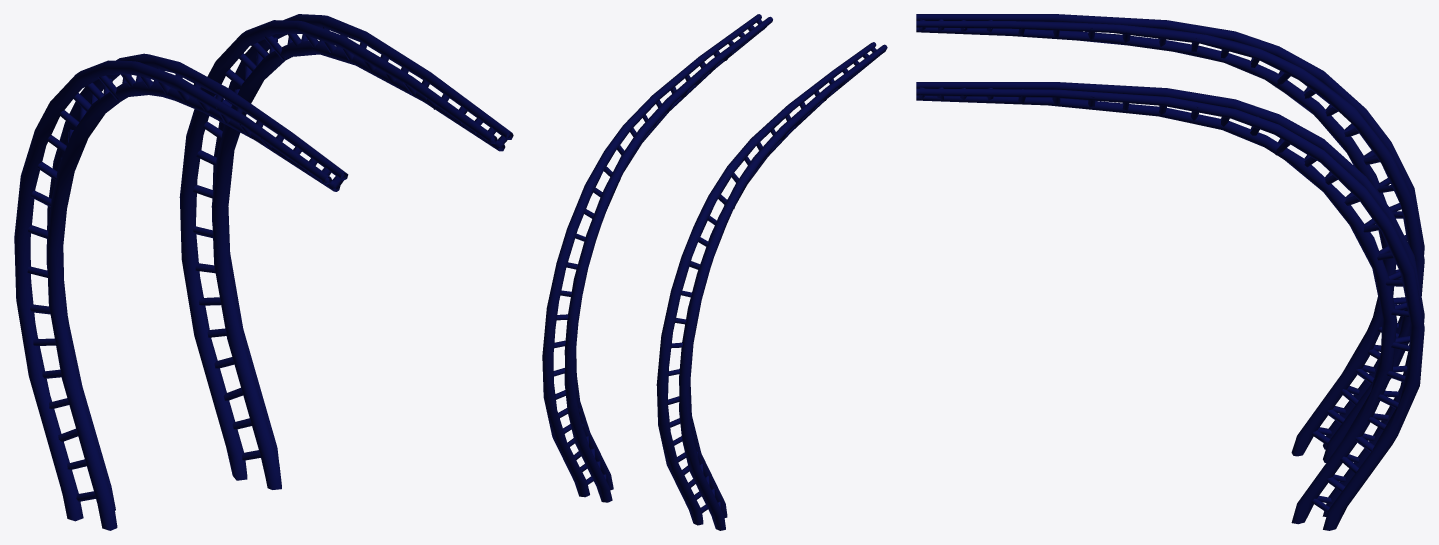
Rendered from Al_Nasar_Football_Stadium_NurbsPath_001.FBX.
The picture shows the model from 3 angles, left to right: view 1: azimuth 30°, elevation 25°; view 2: azimuth 150°, elevation 25°; view 3: azimuth 270°, elevation 25°; orthographic projection. The views are drawn at different scales.
Visible parts, largest first — view 1: Al_Nasar_Football_Stadium_NurbsPath_001; view 2: Al_Nasar_Football_Stadium_NurbsPath_001; view 3: Al_Nasar_Football_Stadium_NurbsPath_001.
Boxes of the visible parts, box(x1,y1,x2,y2) form: Al_Nasar_Football_Stadium_NurbsPath_001: box(14, 14, 513, 530); Al_Nasar_Football_Stadium_NurbsPath_001: box(542, 14, 887, 530); Al_Nasar_Football_Stadium_NurbsPath_001: box(916, 14, 1424, 530).
Size of the model in its own units: 1657 by 4086 by 3868.
